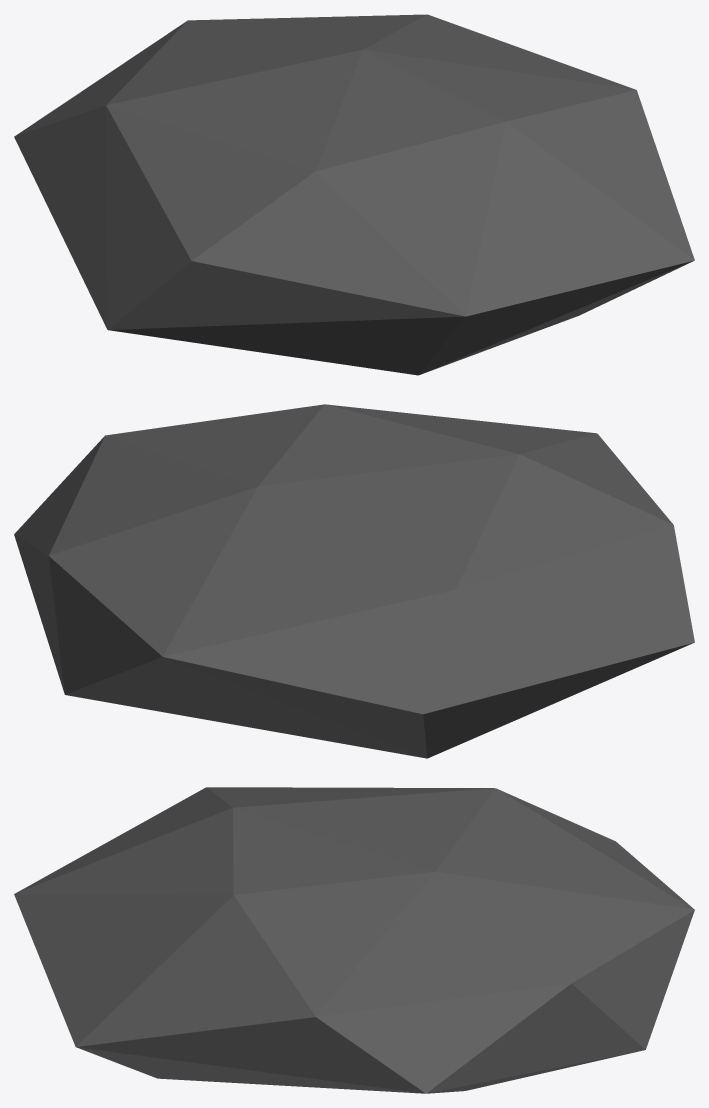
File: SMALL ROCK.001_Material.040.glb
3 renders of one model, top to bottom at view 1: azimuth 30°, elevation 25°; view 2: azimuth 150°, elevation 25°; view 3: azimuth 270°, elevation 25°, orthographic. The views are drawn at different scales.
Visible parts, largest first — view 1: SMALL ROCK.001_Material.040_0; view 2: SMALL ROCK.001_Material.040_0; view 3: SMALL ROCK.001_Material.040_0.
Boxes of the visible parts, x1,y1,x2,y2 form: SMALL ROCK.001_Material.040_0: [14, 14, 694, 375]; SMALL ROCK.001_Material.040_0: [14, 404, 694, 758]; SMALL ROCK.001_Material.040_0: [14, 787, 694, 1093].
Bounding box in the file's own units: 0.2671 × 0.0887 × 0.2778.
1 material, 1 textured.
